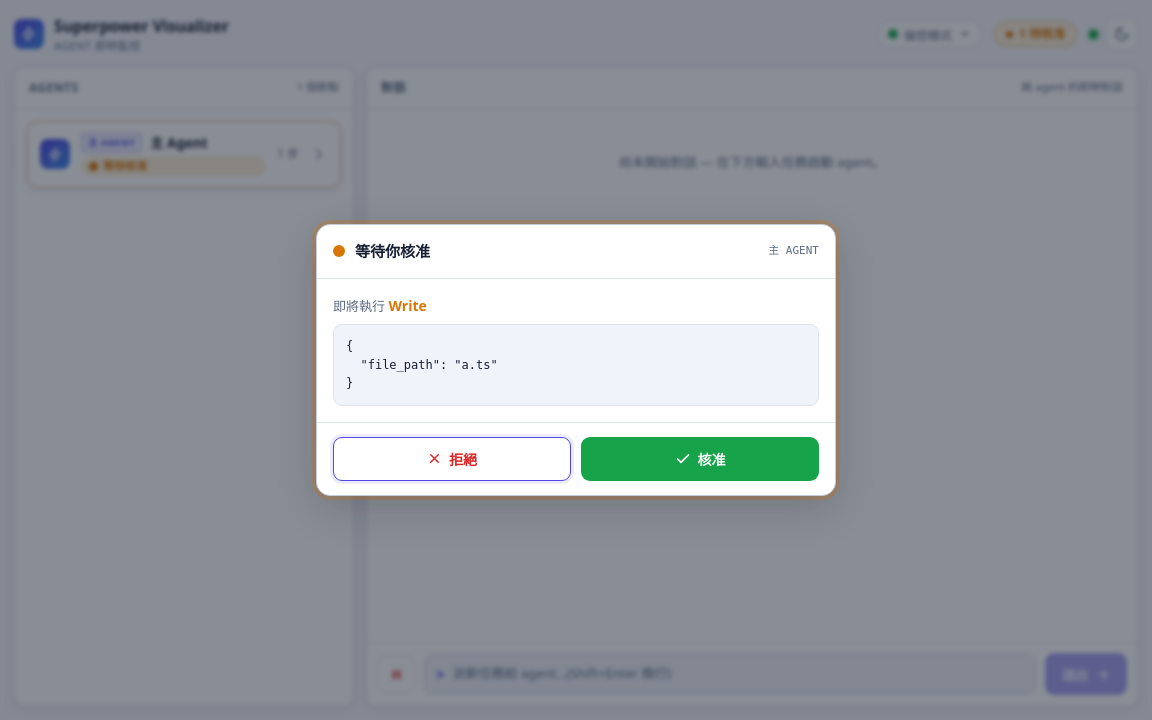
Test: App 整合流程(假 WebSocket 驅動) › await:tool → 跳出核准 modal;按核准 → POST /control approve 且 modal 關閉
Check: the heading "等待你核准" is shown, box top-left (355, 240), bottom-right (430, 263)
Click the button "核准" at (700, 459), box top-left (581, 437), bottom-right (819, 481)
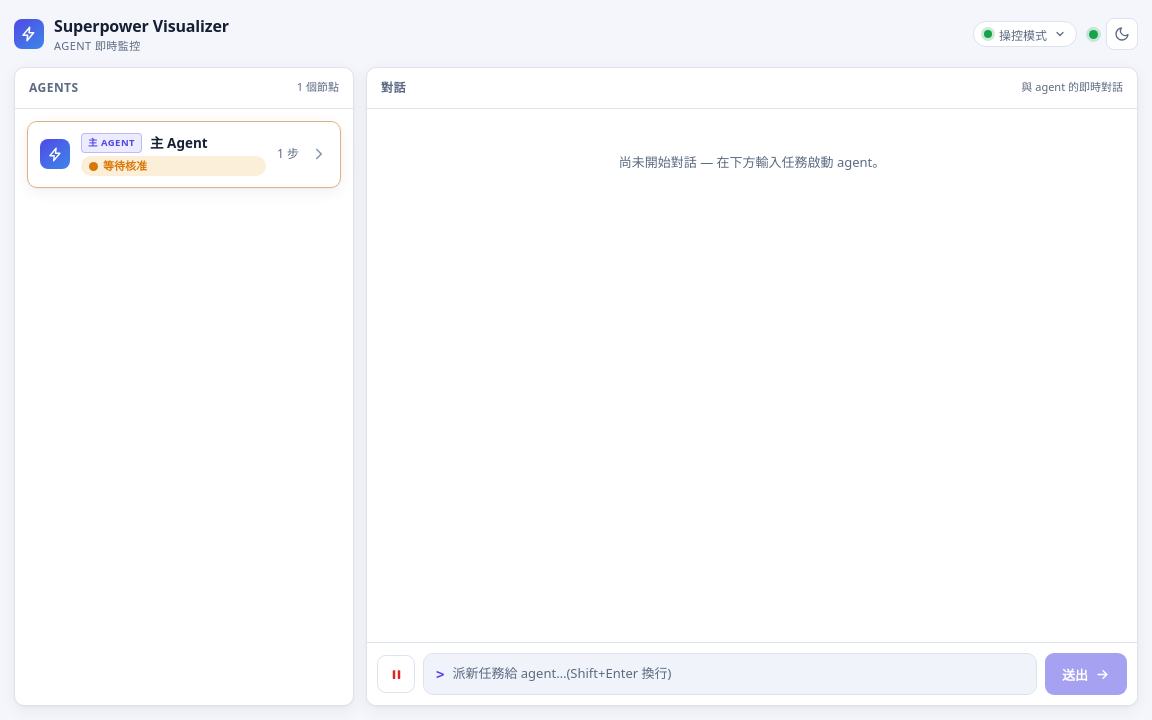
Check: the heading "等待你核准" is gone
